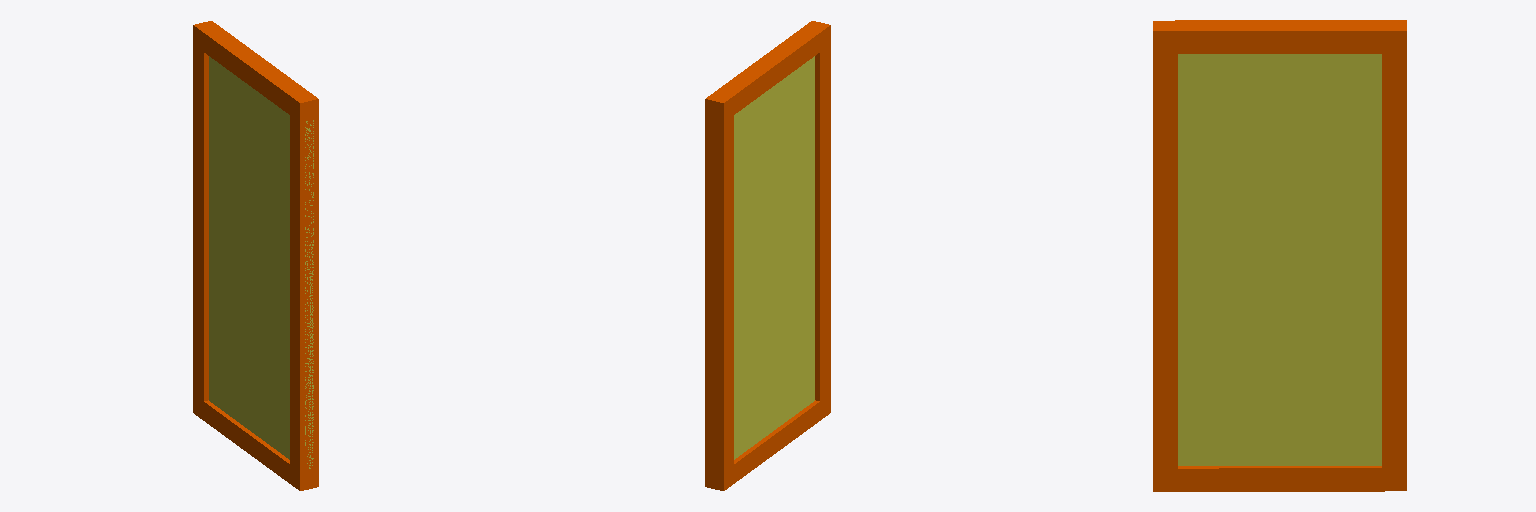
robot.urdf — urdf_door:
<?xml version="1.0" ?>
<robot name="urdf_door">
 <link name="world"/>
  <joint name="fixed" type="fixed">
    <parent link="world"/>
    <child link="baseLink"/>
    <origin rpy= "0 0 1.571" xyz="0 0 0"/>
  </joint>

  <link name="baseLink">
    <inertial>
      <origin rpy="0 0 0" xyz="0 0 0.35"/>
       <mass value="1.0"/>
       <inertia ixx="0.1" ixy="0" ixz="0" iyy="0.1" iyz="0" izz="0.1"/>
    </inertial>
    <visual>1
      <origin rpy="0 0 0" xyz="0.05 0 1.0"/>
      <geometry>
      <box size="0.1 0.1 2"/>
      </geometry>
	   <material name="framemat0">
      <color
                    rgba="0.9 0.4 0. 1" />
      </material>
    </visual>
    <visual>2
      <origin rpy="0 0 0" xyz="0.95 0 1"/>
      <geometry>
        <box size="0.1 0.1 2"/>
      </geometry>
	  <material name="framemat0"/>	 
    </visual>
    <visual>3
      <origin rpy="0 0 0" xyz="0.5 0 1.95"/>
      <geometry>
        <box size="1 0.1 0.1"/>
      </geometry>
	  <material name="framemat0"/>
	  </visual>
    <visual>4
      <origin rpy="0 0 0" xyz="0.5 0 0.05"/>
      <geometry>
        <box size="1 0.1 0.1"/>
      </geometry>
	  <material name="framemat0"/>
	  </visual>
    <collision>1
      <origin rpy="0 0 0" xyz="0.05 0 1"/>
      <geometry>
        <box size="0.1 0.1 2"/>
      </geometry>
    </collision>
    <collision>2
      <origin rpy="0 0 0" xyz="0.95 0 1.0"/>
      <geometry>
        <box size="0.1 0.1 2"/>
      </geometry>
    </collision>
    <collision>3
      <origin rpy="0 0 0" xyz="0.5 0 1.95"/>
      <geometry>
        <box size="1 0.1 0.1"/>
      </geometry>
    </collision>
    <collision>4
      <origin rpy="0 0 0" xyz="0.5 0 0.05"/>
      <geometry>
        <box size="1 0.1 0.1"/>
      </geometry>
    </collision>
    
  </link>

   <link name="door">
    <inertial>
      <origin rpy="0 0 0" xyz="0.4 0 0.4"/>
      <mass value="1.0"/>
      <inertia ixx="0.048966669" ixy="0" ixz="0" iyy="0.046466667" iyz="0" izz="0.0041666669"/>
    </inertial>
    <visual>
      <origin rpy="0 0 0" xyz="0.4 0 0.9"/>
      <geometry>
        <box size="0.9  0.05 1.8"/>
      </geometry>
	   <material name="doormat0">
      <color rgba="0.8 0.8 0.3 1" />
      </material>

	  </visual>
     <collision>
       <origin rpy="0 0 0" xyz="0.4 0 0.9"/>
       <geometry>
         <box size="0.9  0.05 1.8"/>
       </geometry>
     </collision>

   </link>
   <joint name="joint_baseLink_door" type="continuous">
    <parent link="baseLink"/>
    <child link="door"/>
	<dynamics damping="1.0" friction="0.0001"/>
    <origin xyz="0.05 0 0.1"/>
		<axis xyz="0 0 1"/>

  </joint>
</robot>

--- Render facts (derived) ---
The picture shows the robot from 3 angles, left to right: view 1: azimuth 30°, elevation 25°; view 2: azimuth 150°, elevation 25°; view 3: azimuth 270°, elevation 25°; orthographic projection.
Robot: urdf_door — 3 links, 2 joints (1 continuous, 1 fixed); root link world; default pose: every joint at zero.
Links seen in each view (by area): view 1: door, baseLink; view 2: door, baseLink; view 3: door, baseLink.
Boxes of the visible links, x1=… form: door: x1=209, y1=56, x2=313, y2=468; baseLink: x1=193, y1=21, x2=318, y2=490; door: x1=734, y1=56, x2=814, y2=459; baseLink: x1=705, y1=21, x2=830, y2=490; door: x1=1178, y1=54, x2=1381, y2=465; baseLink: x1=1153, y1=20, x2=1406, y2=491.
Bounding box of the posed robot: 0.1002 × 1 × 2 m (x, y, z).
Geometry: primitives only (box / cylinder / sphere), no mesh files.